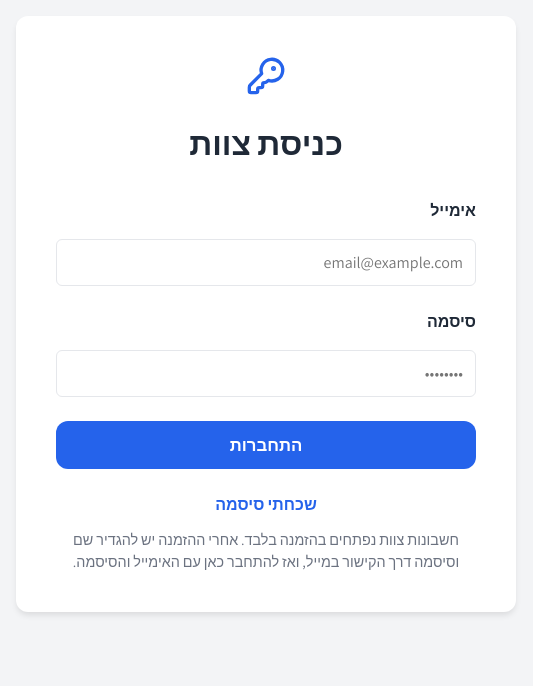
LoginPage › shows a friendly Hebrew error for bad credentials and does not navigate
Expected: the heading "כניסת צוות" is shown, [189,122,343,164]
In the field labelled "אימייל": (266, 262) [56,239,476,286], type "staff@example.com"
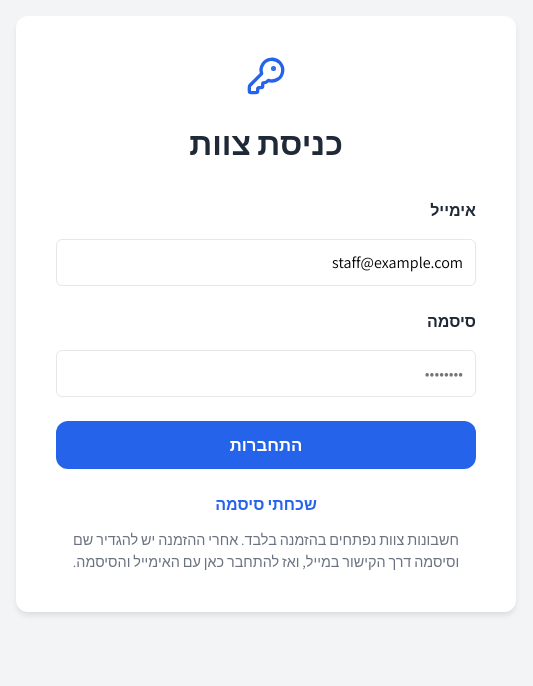
In the password field labelled "סיסמה": (266, 374) [56,350,476,397], type "secret123"
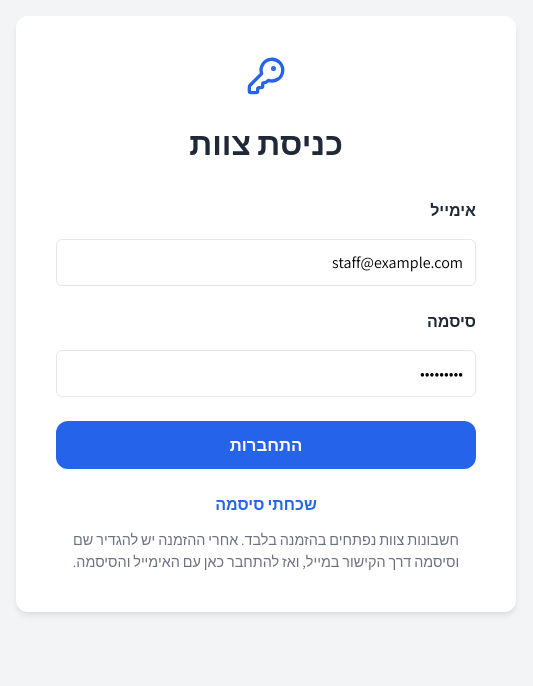
Click the button "התחברות": click(266, 445) [56,421,476,469]
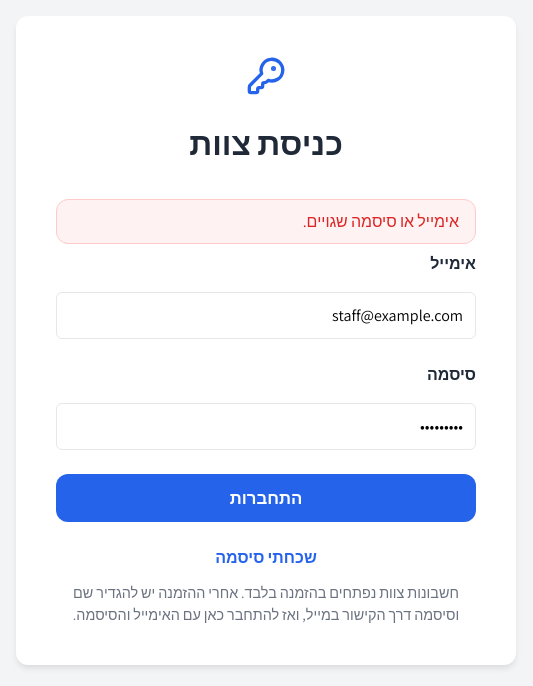
Expected: the text "אימייל או סיסמה שגויים." is shown, [56,199,476,244]
